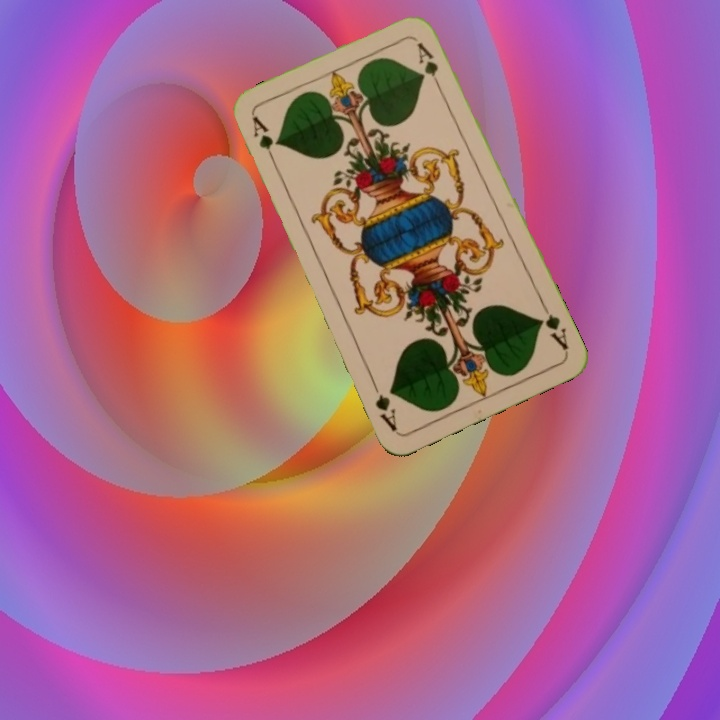GA: (534, 298, 571, 353), (248, 112, 280, 169)
